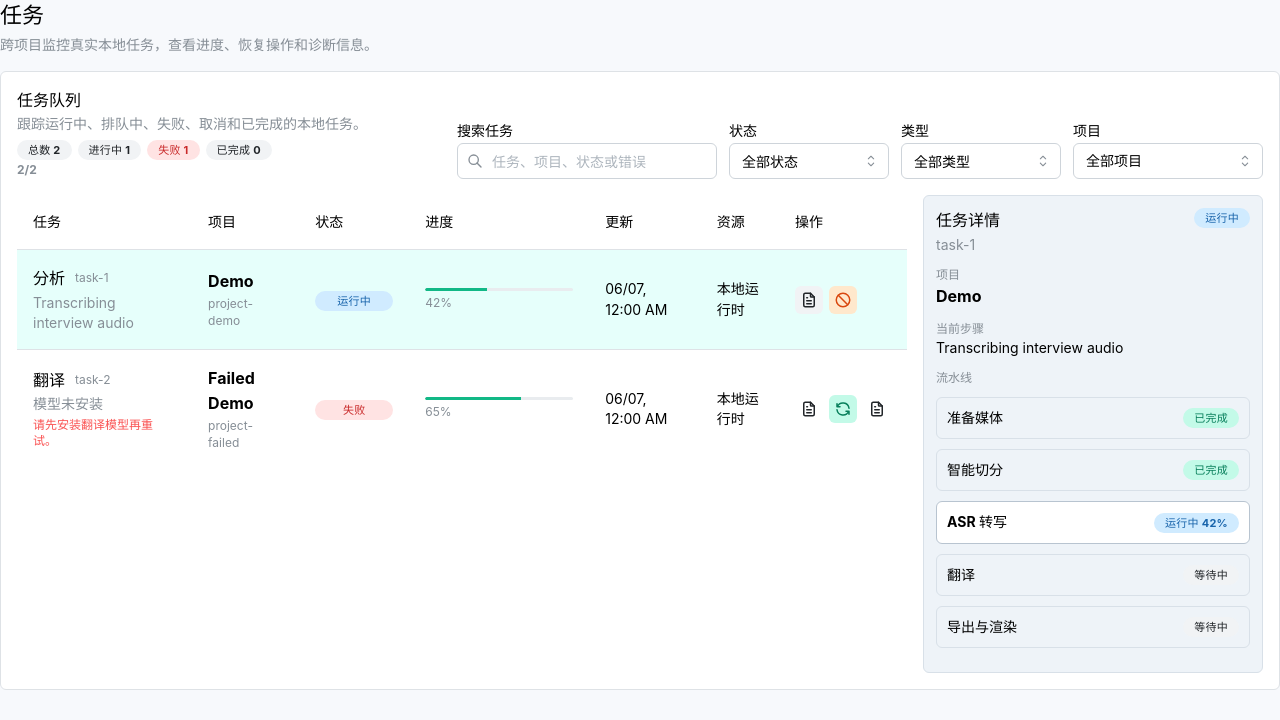
Scenario: TasksPage › localizes common backend task messages in Chinese and keeps search usable
Check: the text "模型未安装" is shown, box [33,395,103,412]
Check: the text "请先安装翻译模型再重试。" is shown, box [33,417,153,448]
In the field labelled "搜索任务": coordinates (587, 161) [457,143,717,179], type "模型"
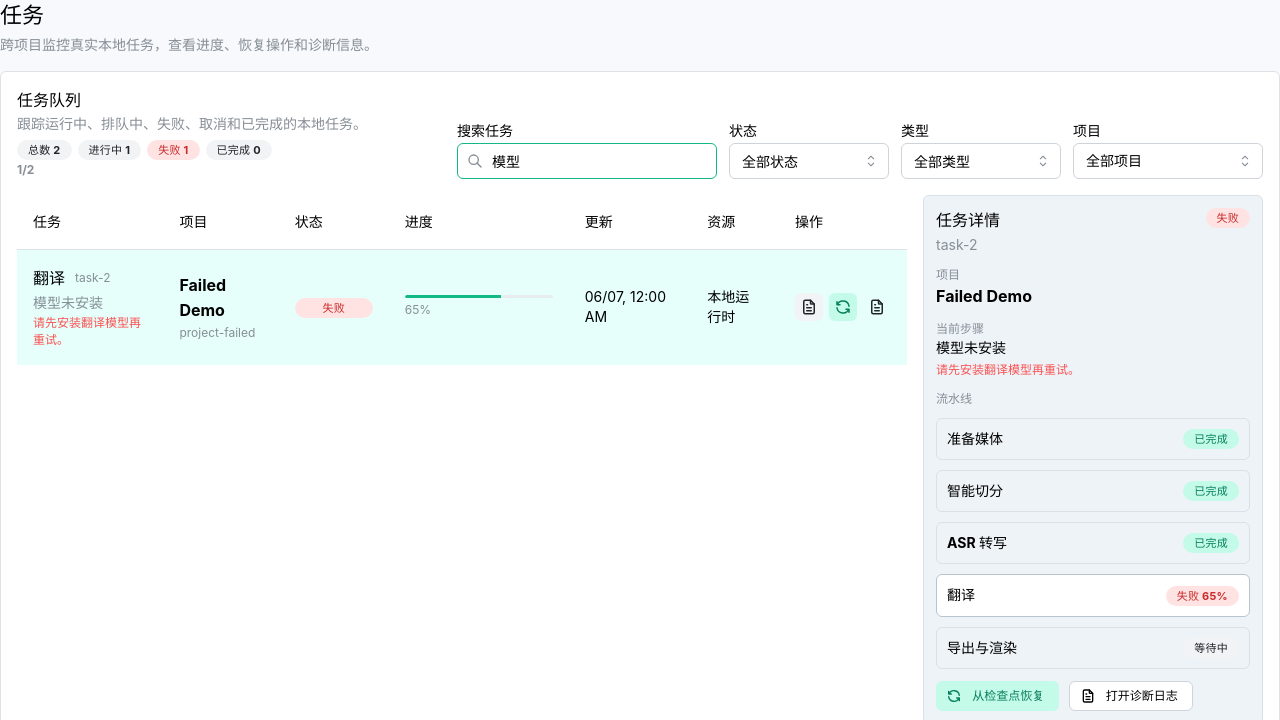
Check: the text "模型未安装" in the row of "06/07, 12:00 AM" is shown, box [33,294,103,311]
Check: the text "Transcribing interview audio" is gone
